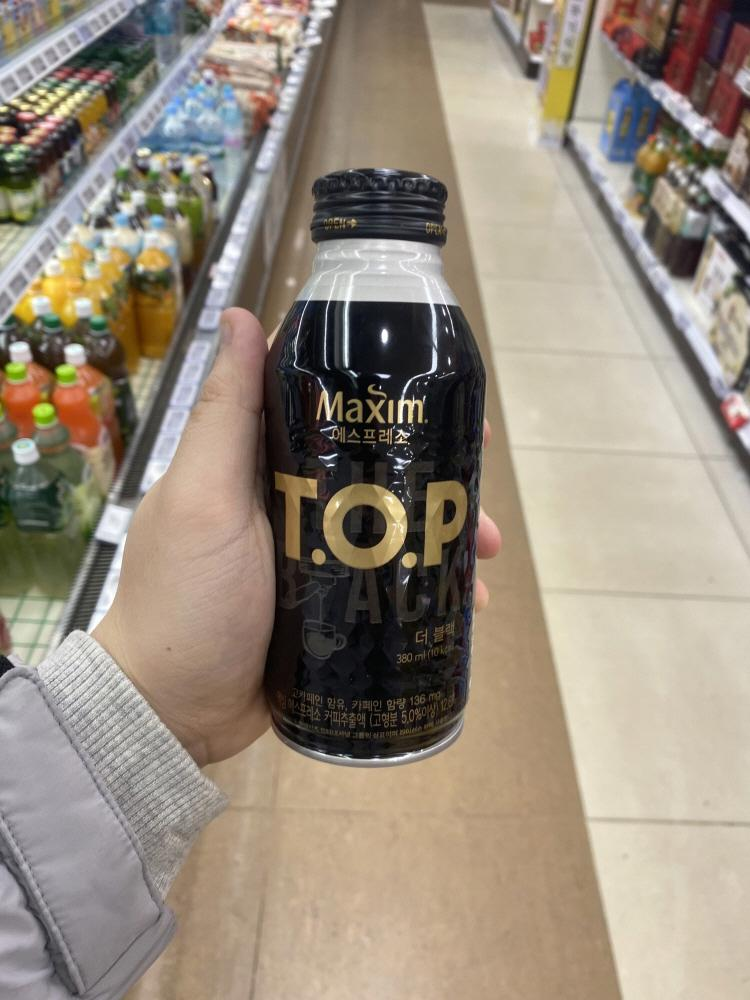TOP_black: (263, 162, 481, 765)
